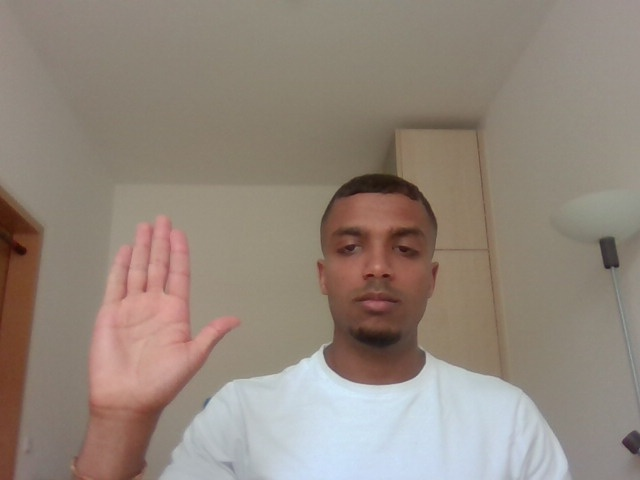never: (72, 207, 254, 421)
